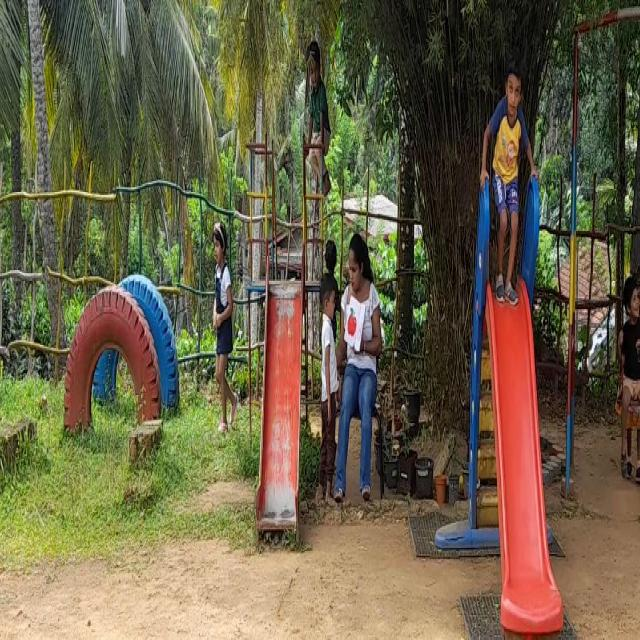adult: (343, 209, 382, 509)
child: (484, 26, 528, 303), (208, 209, 240, 439), (298, 40, 336, 205), (313, 272, 336, 506), (622, 253, 640, 474)
